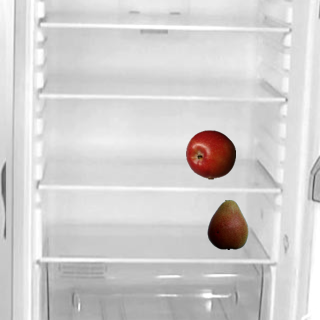Apple Braeburn: (185, 129, 235, 179)
Pear Forelle: (202, 199, 252, 249)
